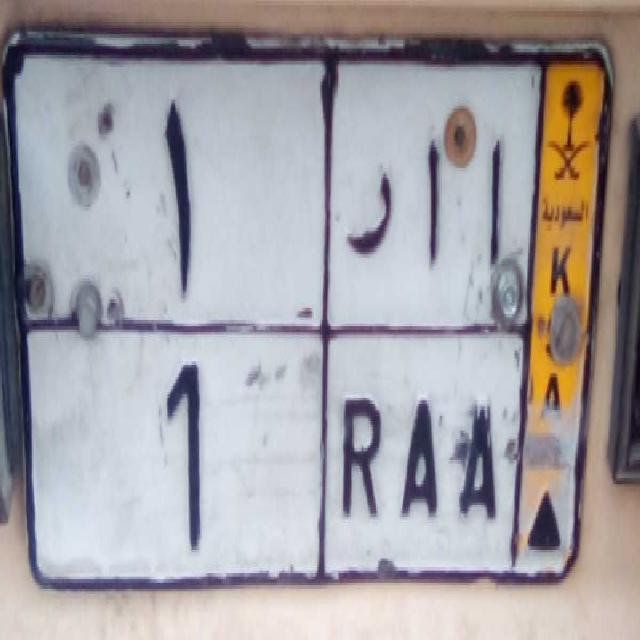license_plate: (23, 324, 521, 582)
